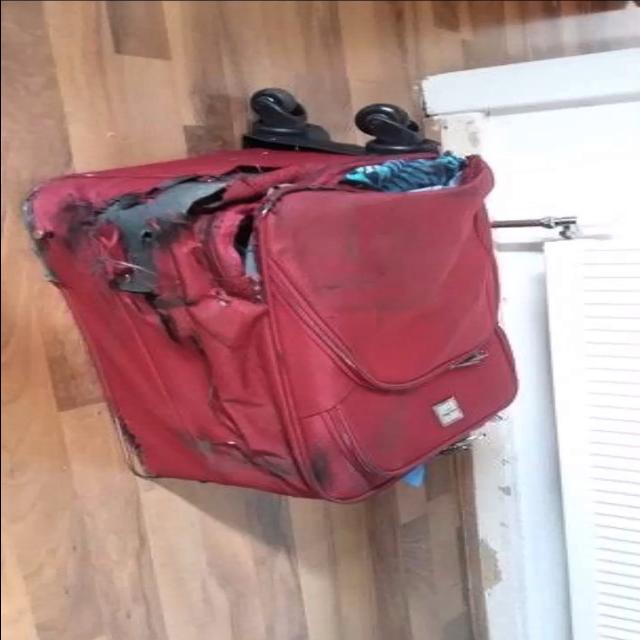Damage-bag: (28, 154, 464, 350), (179, 421, 300, 481), (114, 410, 172, 478), (208, 370, 229, 421)
